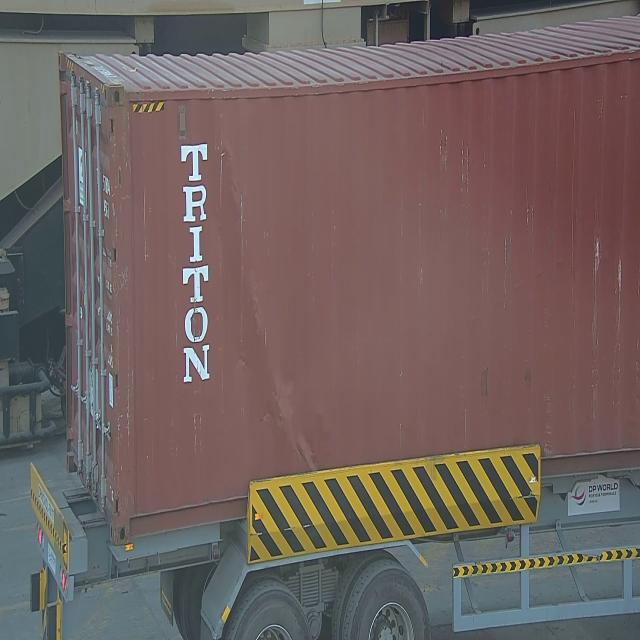dent: (205, 120, 343, 480)
